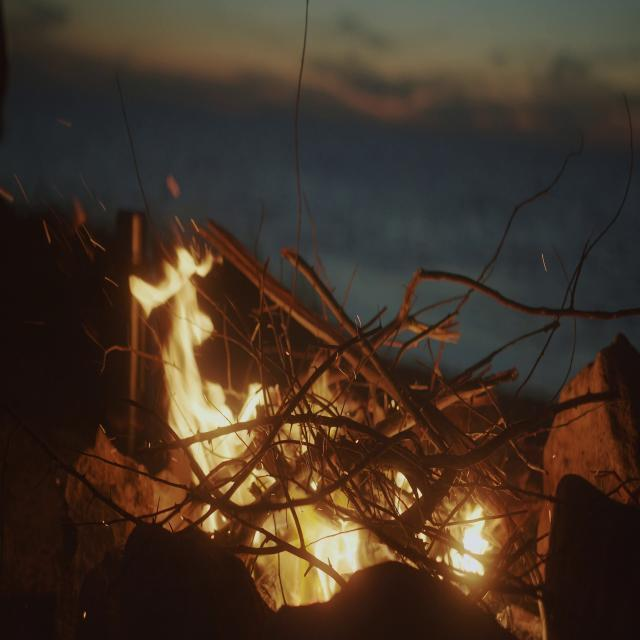Fire: (200, 374, 366, 600), (143, 225, 264, 528), (445, 500, 500, 578)
